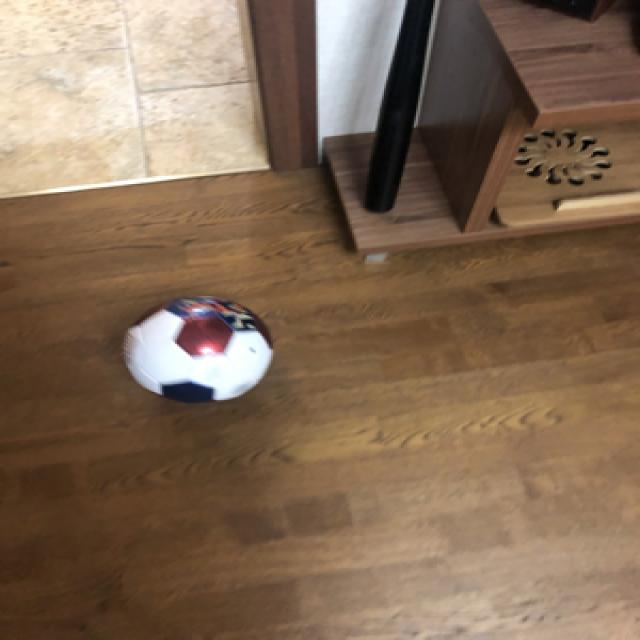soccer_ball: (120, 291, 275, 403)
